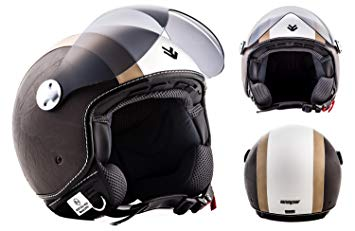with_helmet: (12, 5, 232, 215), (242, 5, 344, 112), (242, 127, 347, 219)
